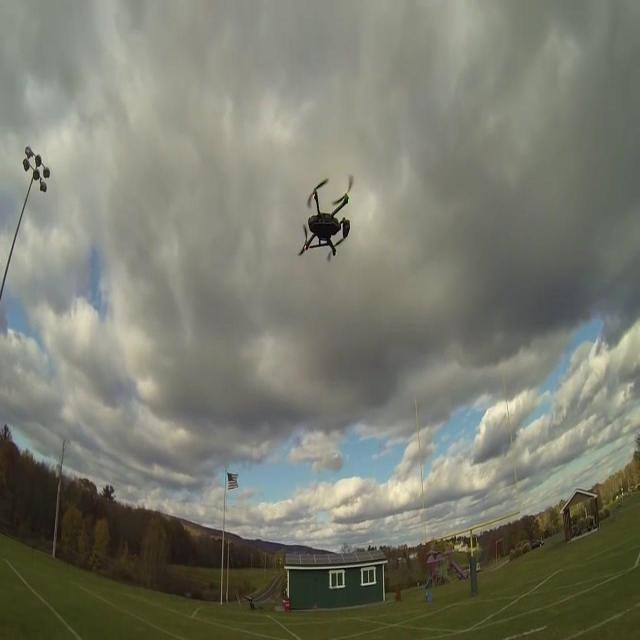drone: (301, 178, 351, 258)
